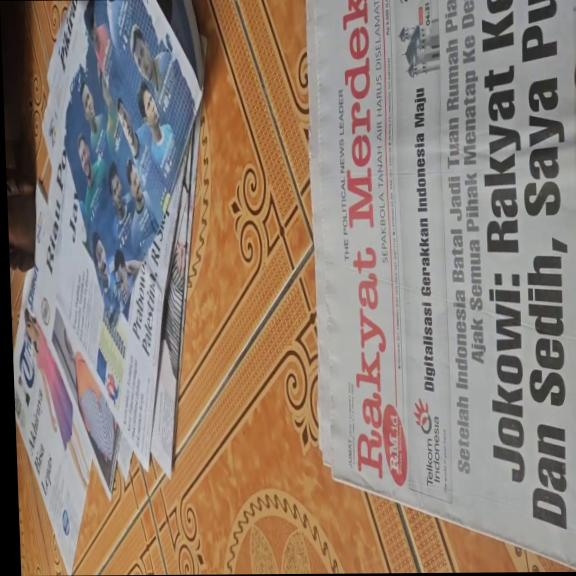Kertas: (307, 6, 576, 570), (37, 7, 217, 474)
